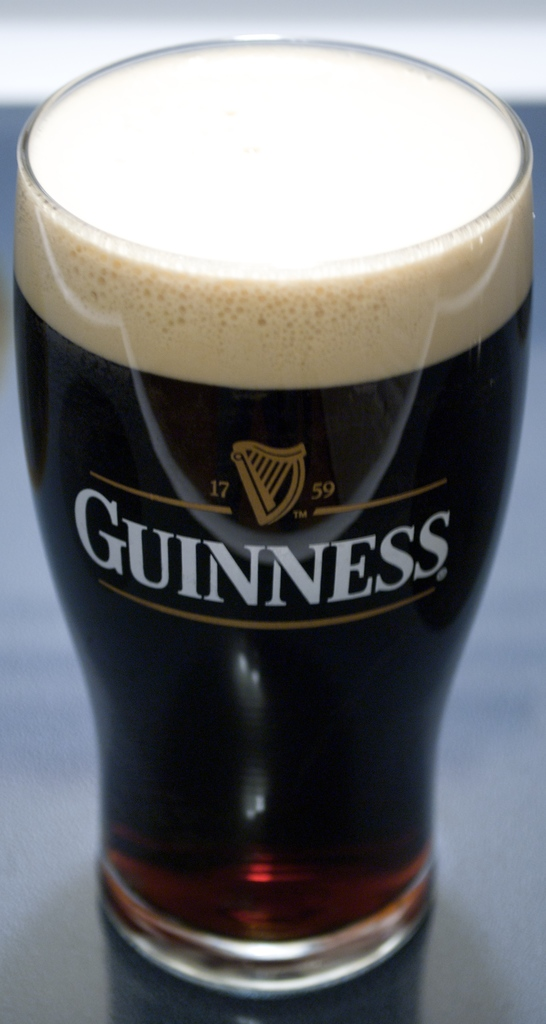Beer: (11, 34, 534, 998)
